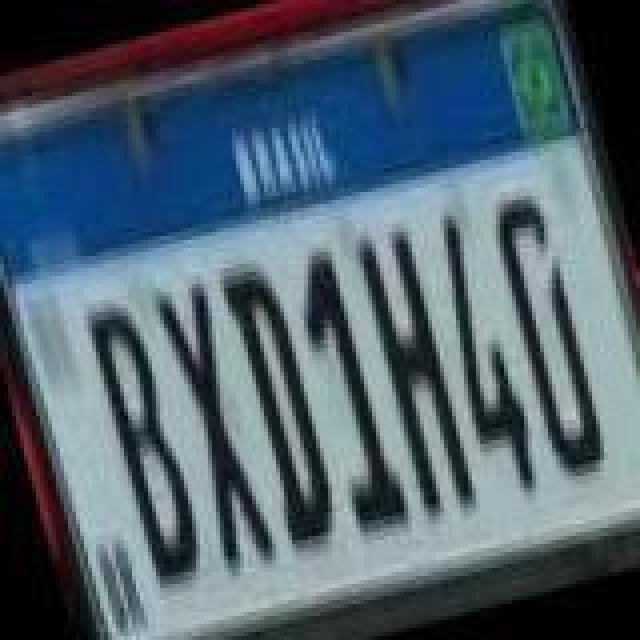1: (282, 240, 414, 544)
4: (414, 204, 546, 508)
B: (82, 298, 214, 598)
D: (212, 258, 348, 558), (486, 186, 618, 486)
H: (348, 220, 484, 532)
X: (150, 274, 282, 574)
